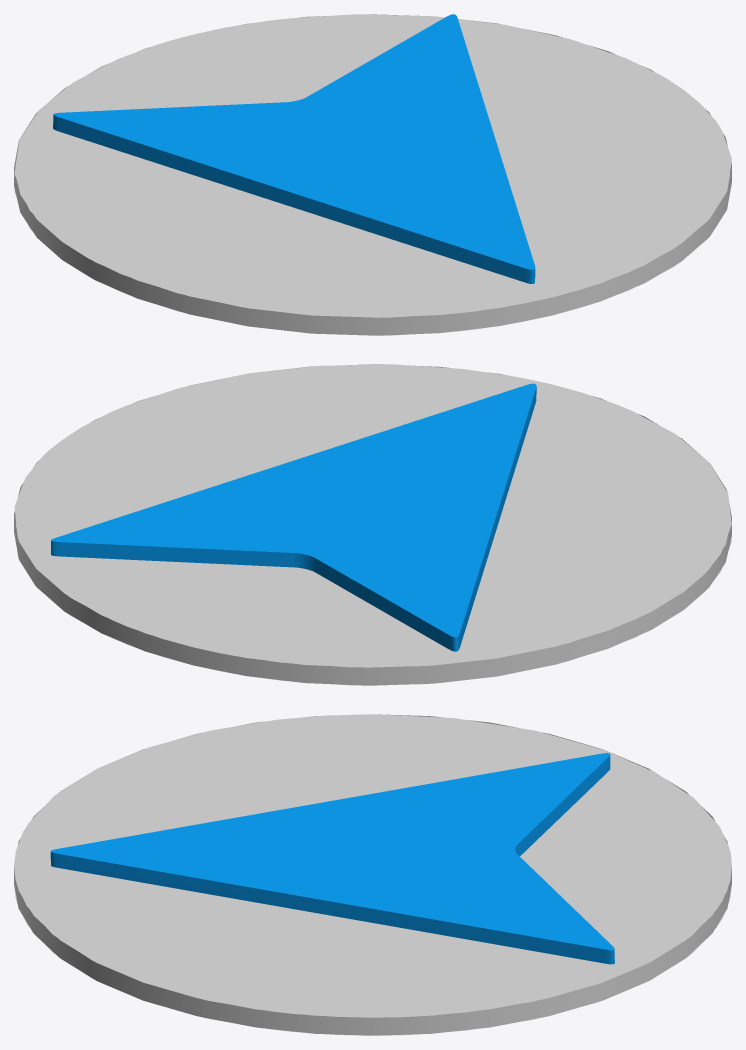
File: cursor.glb
3 views of the same model, one above another, from view 1: azimuth 30°, elevation 25°; view 2: azimuth 150°, elevation 25°; view 3: azimuth 270°, elevation 25° (orthographic).
Parts seen in each view (by area): view 1: Object_3, Object_2; view 2: Object_3, Object_2; view 3: Object_3, Object_2.
Boxes of the visible parts, bbox=[...] form: Object_3: bbox=[14, 14, 731, 335]; Object_2: bbox=[53, 14, 535, 283]; Object_3: bbox=[14, 364, 731, 685]; Object_2: bbox=[51, 383, 536, 651]; Object_3: bbox=[14, 714, 731, 1035]; Object_2: bbox=[50, 753, 614, 964].
Size of the model in its own units: 2.01 by 0.1005 by 2.01.
